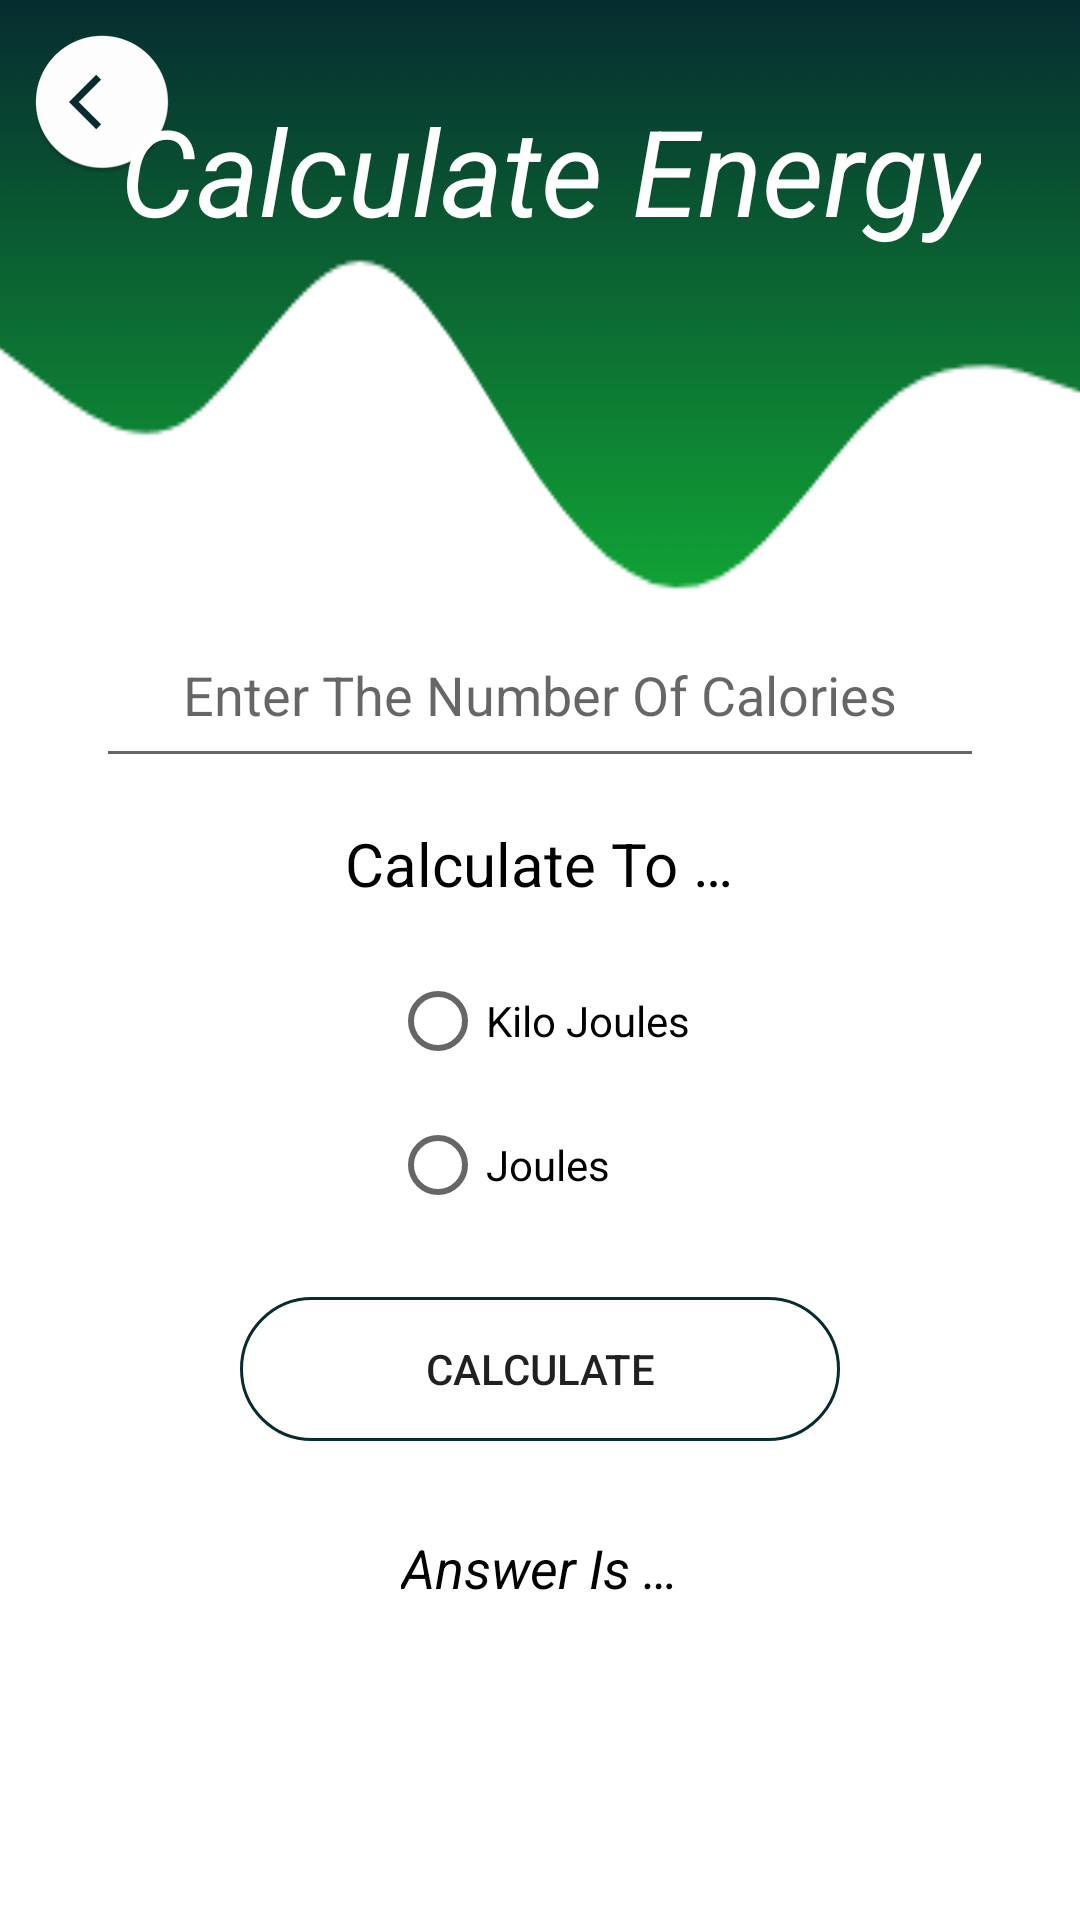

Screen size 1080×1920. Icon name, then its box in pixels as (x1, y1, x2, y2):
back: (30, 35, 174, 174)
